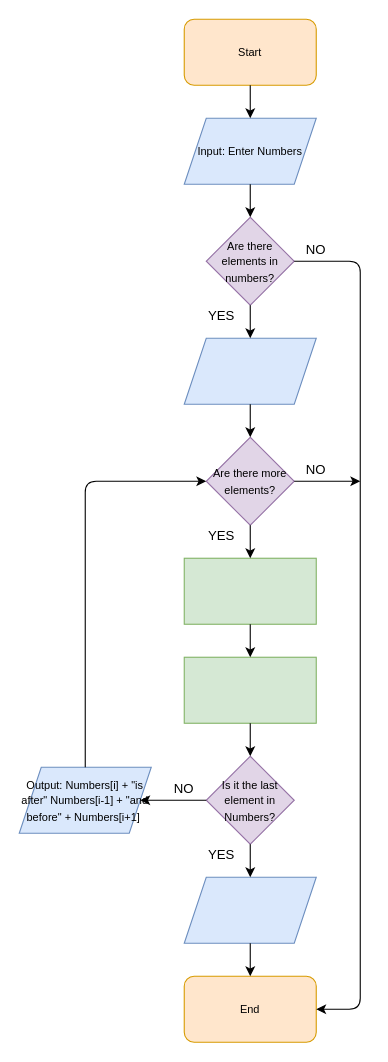
The diagram is 388 pixels wide and 1062 high, and some of its shapes have lost their labels. The box of each missing label's shape, as (x1, y1, x2, y2) in pixels:
i = index of the current element: (183, 656, 316, 723)
Output: Numbers[0] + "is first": (183, 337, 316, 404)
Output: Numbers[i] + "is last": (183, 876, 316, 943)
Take next element from Numbers: (183, 557, 316, 624)
